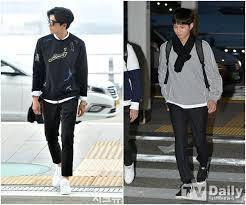pants: (164, 98, 210, 182), (38, 95, 79, 180)
sweater: (25, 30, 94, 103), (160, 40, 219, 110)
